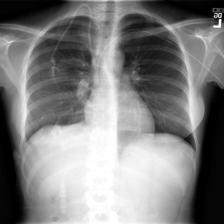normal: (19, 11, 198, 152)
